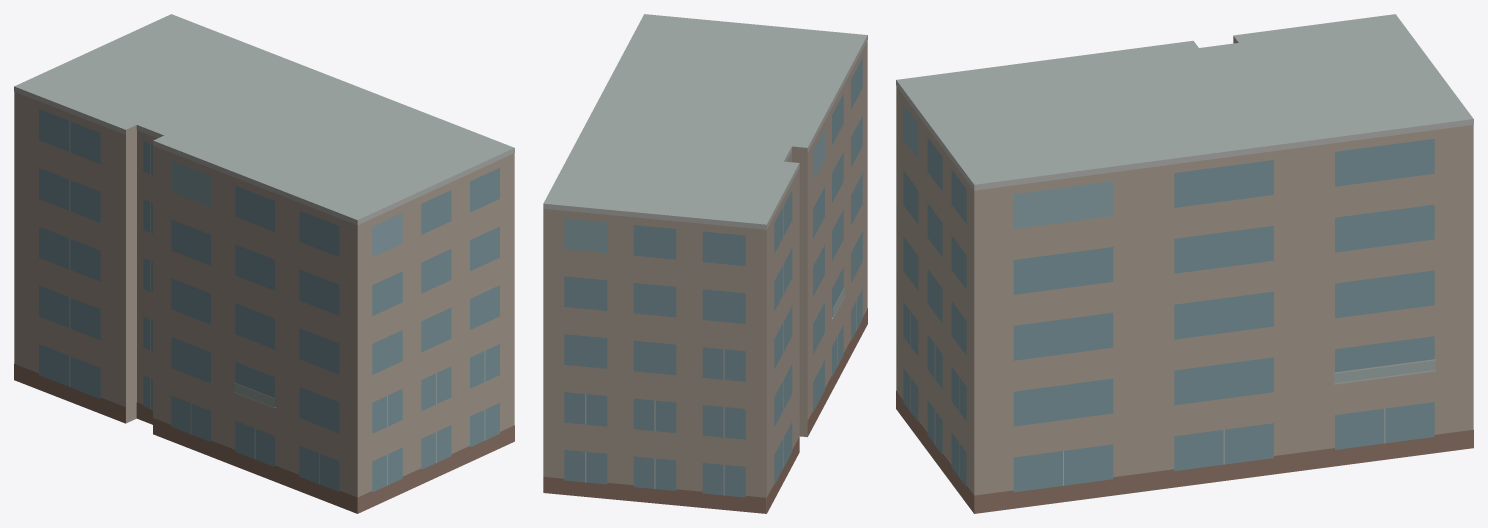
Rendered from survey-upis-33026899.glb.
3 renders of one model, left to right at view 1: azimuth 30°, elevation 25°; view 2: azimuth 150°, elevation 25°; view 3: azimuth 270°, elevation 25°, orthographic. The views are drawn at different scales.
Parts seen in each view (by area): view 1: survey-upis-33026899.tmp; view 2: survey-upis-33026899.tmp; view 3: survey-upis-33026899.tmp.
Part boxes in pixels (box(x1,y1,x2,y2)): survey-upis-33026899.tmp: box(14, 14, 514, 513); survey-upis-33026899.tmp: box(543, 14, 867, 513); survey-upis-33026899.tmp: box(896, 14, 1473, 513).
Bounding box in the file's own units: 15.49 × 13.9 × 22.13.
